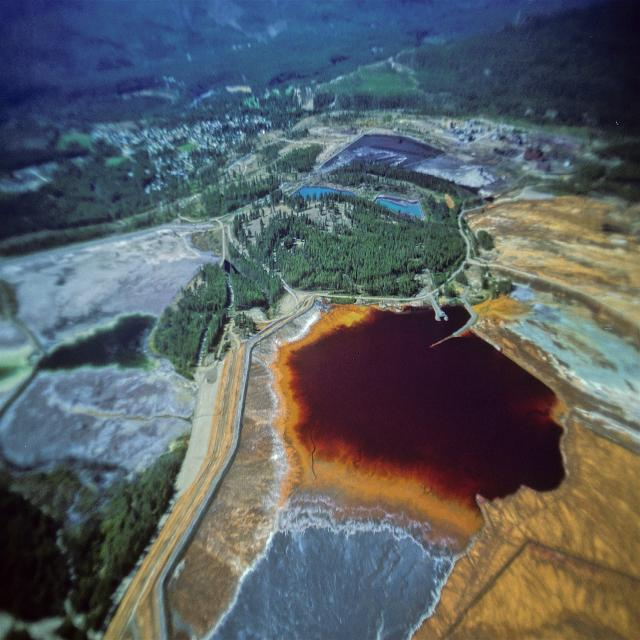yellow_boy: (288, 307, 564, 505)
